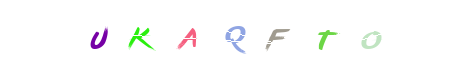A: (149, 0, 229, 80)
F: (199, 0, 279, 80)
K: (99, 0, 179, 80)
O: (248, 0, 328, 80)
Q: (187, 0, 267, 80)
T: (241, 0, 321, 80)
U: (58, 0, 138, 80)
